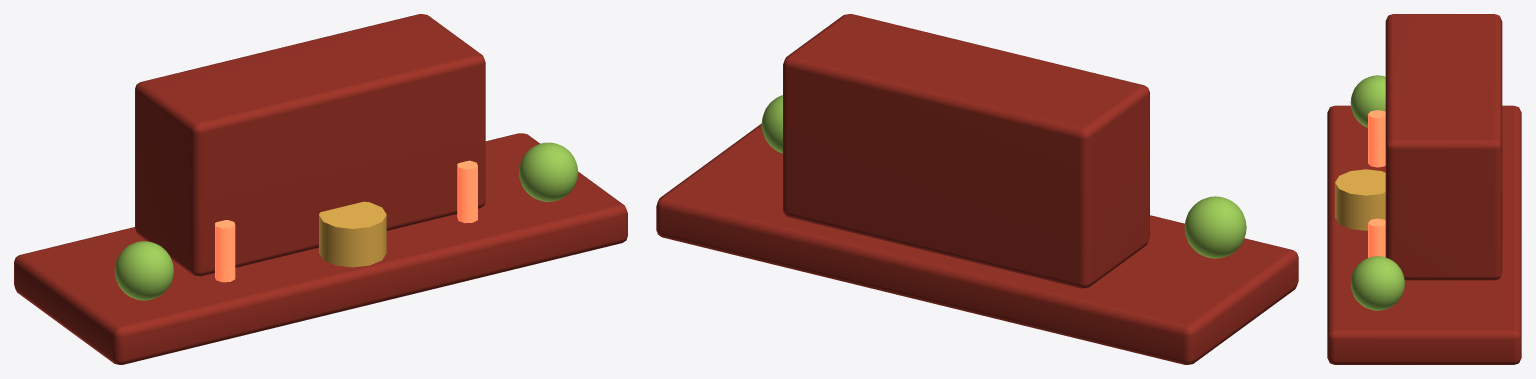
File: altar.glb
3 renders of one model, left to right at view 1: azimuth 30°, elevation 25°; view 2: azimuth 150°, elevation 25°; view 3: azimuth 270°, elevation 25°, orthographic. The views are drawn at different scales.
Visible parts, largest first — view 1: Box, Shelf, Incense, Fruit, Fruit.001, Candle, Candle.001; view 2: Box, Shelf, Fruit, Fruit.001; view 3: Box, Shelf, Incense, Fruit.001, Fruit, Candle, Candle.001.
Part boxes in pixels (box(x1,y1,x2,y2)): Box: box(135, 14, 485, 276); Shelf: box(14, 133, 627, 364); Incense: box(319, 201, 386, 267); Fruit: box(114, 241, 173, 300); Fruit.001: box(519, 142, 578, 201); Candle: box(215, 220, 235, 282); Candle.001: box(457, 160, 477, 223); Box: box(783, 14, 1149, 288); Shelf: box(656, 123, 1298, 364); Fruit: box(1184, 196, 1246, 258); Fruit.001: box(761, 95, 782, 153); Box: box(1385, 14, 1502, 280); Shelf: box(1327, 105, 1521, 364); Incense: box(1335, 169, 1385, 230); Fruit.001: box(1350, 256, 1404, 310); Fruit: box(1350, 75, 1385, 127); Candle: box(1368, 110, 1385, 167); Candle.001: box(1368, 218, 1385, 257).
Size of the model in its own units: 1.4 by 0.5 by 0.5.
